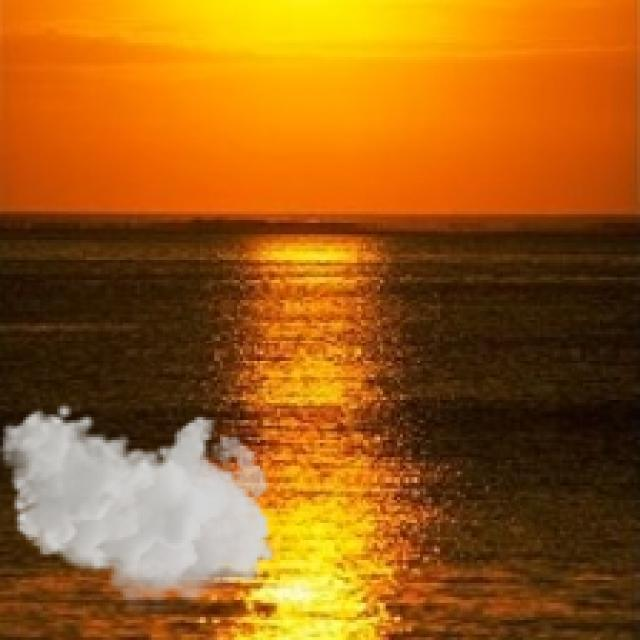Smoke: (0, 403, 277, 611)
